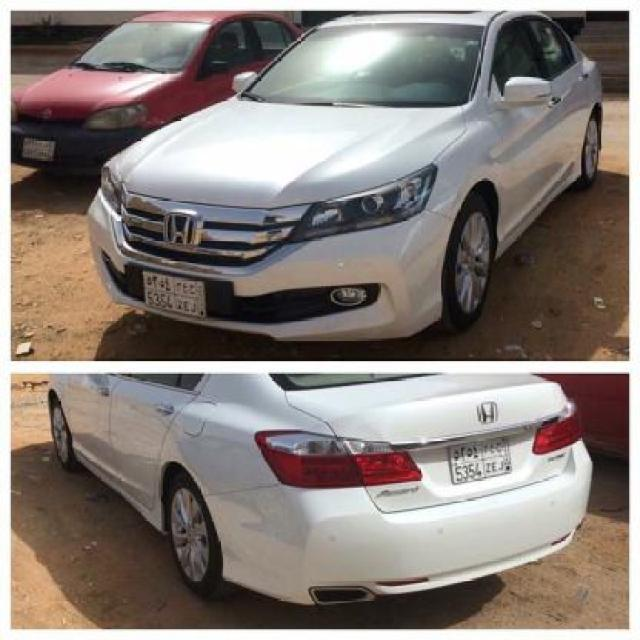license_plate: (443, 436, 517, 486), (142, 269, 210, 320)
